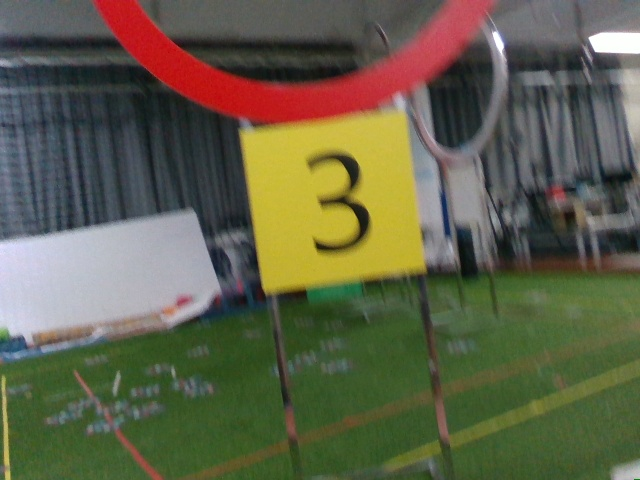target: (251, 123, 412, 275)
